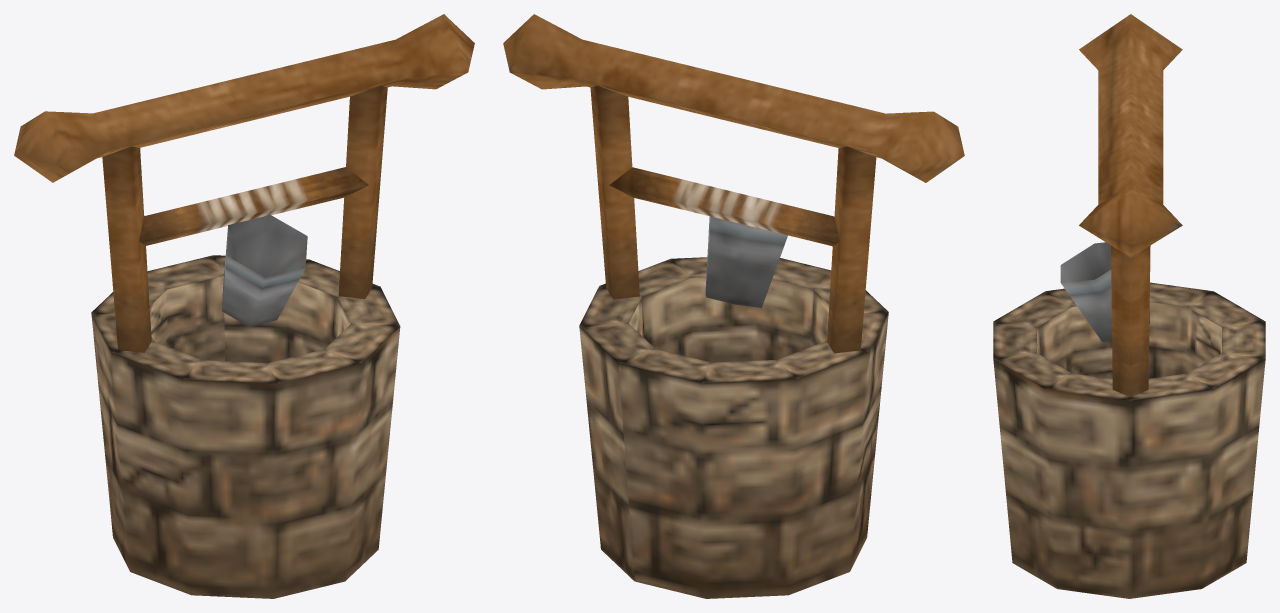
The picture shows the model from 3 angles, left to right: view 1: azimuth 30°, elevation 25°; view 2: azimuth 150°, elevation 25°; view 3: azimuth 270°, elevation 25°; orthographic projection. The views are drawn at different scales.
Visible parts, largest first — view 1: well; view 2: well; view 3: well.
Part boxes in pixels (bbox=[...]): well: bbox=[14, 14, 474, 598]; well: bbox=[503, 14, 964, 598]; well: bbox=[993, 14, 1265, 598].
Bounding box in the file's own units: 186 × 185 × 103.
Materials: 1 (1 with a texture image).
